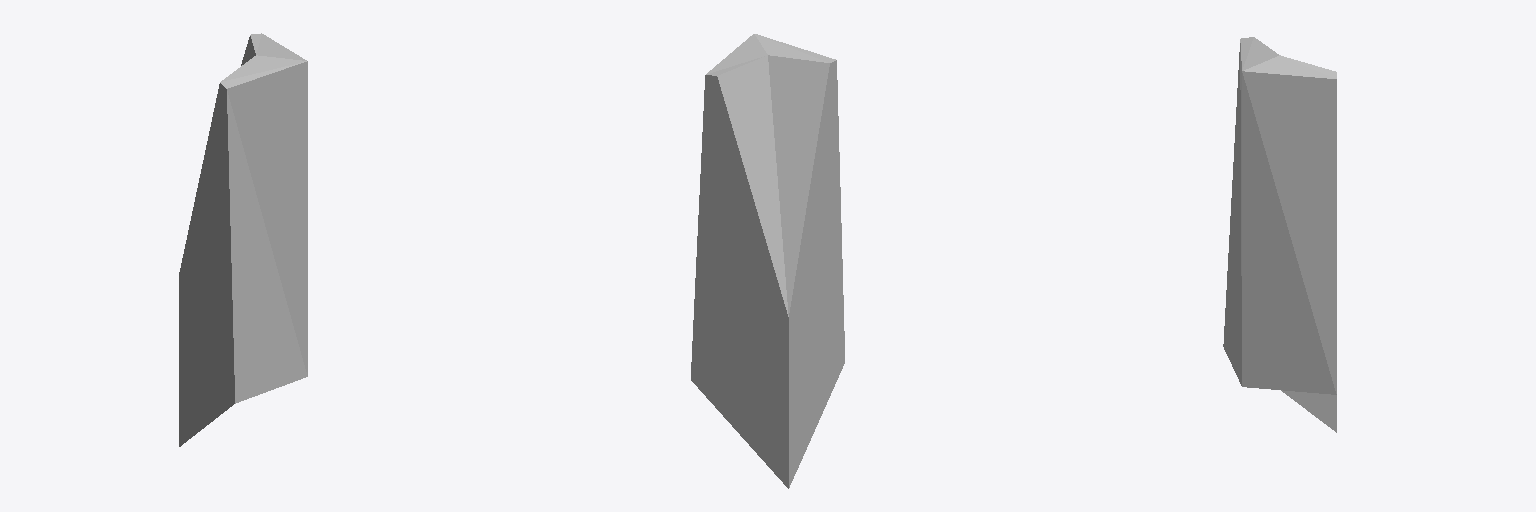
The model's file is Barrier_wall_corner.obj.
3 views of the same model, side by side, from view 1: azimuth 30°, elevation 25°; view 2: azimuth 150°, elevation 25°; view 3: azimuth 270°, elevation 25° (orthographic).
Parts seen in each view (by area): view 1: Barrier_wall_corner; view 2: Barrier_wall_corner; view 3: Barrier_wall_corner.
Part boxes in pixels (left/top/right/bottom): Barrier_wall_corner: left=179, top=33, right=307, bottom=446; Barrier_wall_corner: left=691, top=34, right=844, bottom=488; Barrier_wall_corner: left=1223, top=37, right=1336, bottom=432.
Size of the model in its own units: 0.5991 by 2.34 by 0.5991.